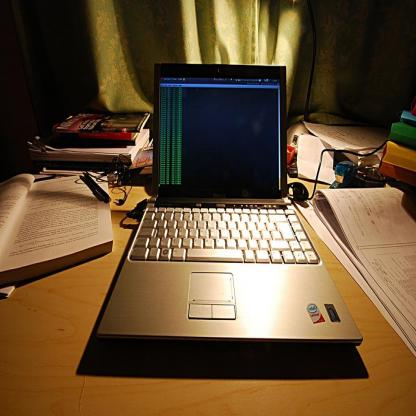board: (95, 62, 364, 346)
